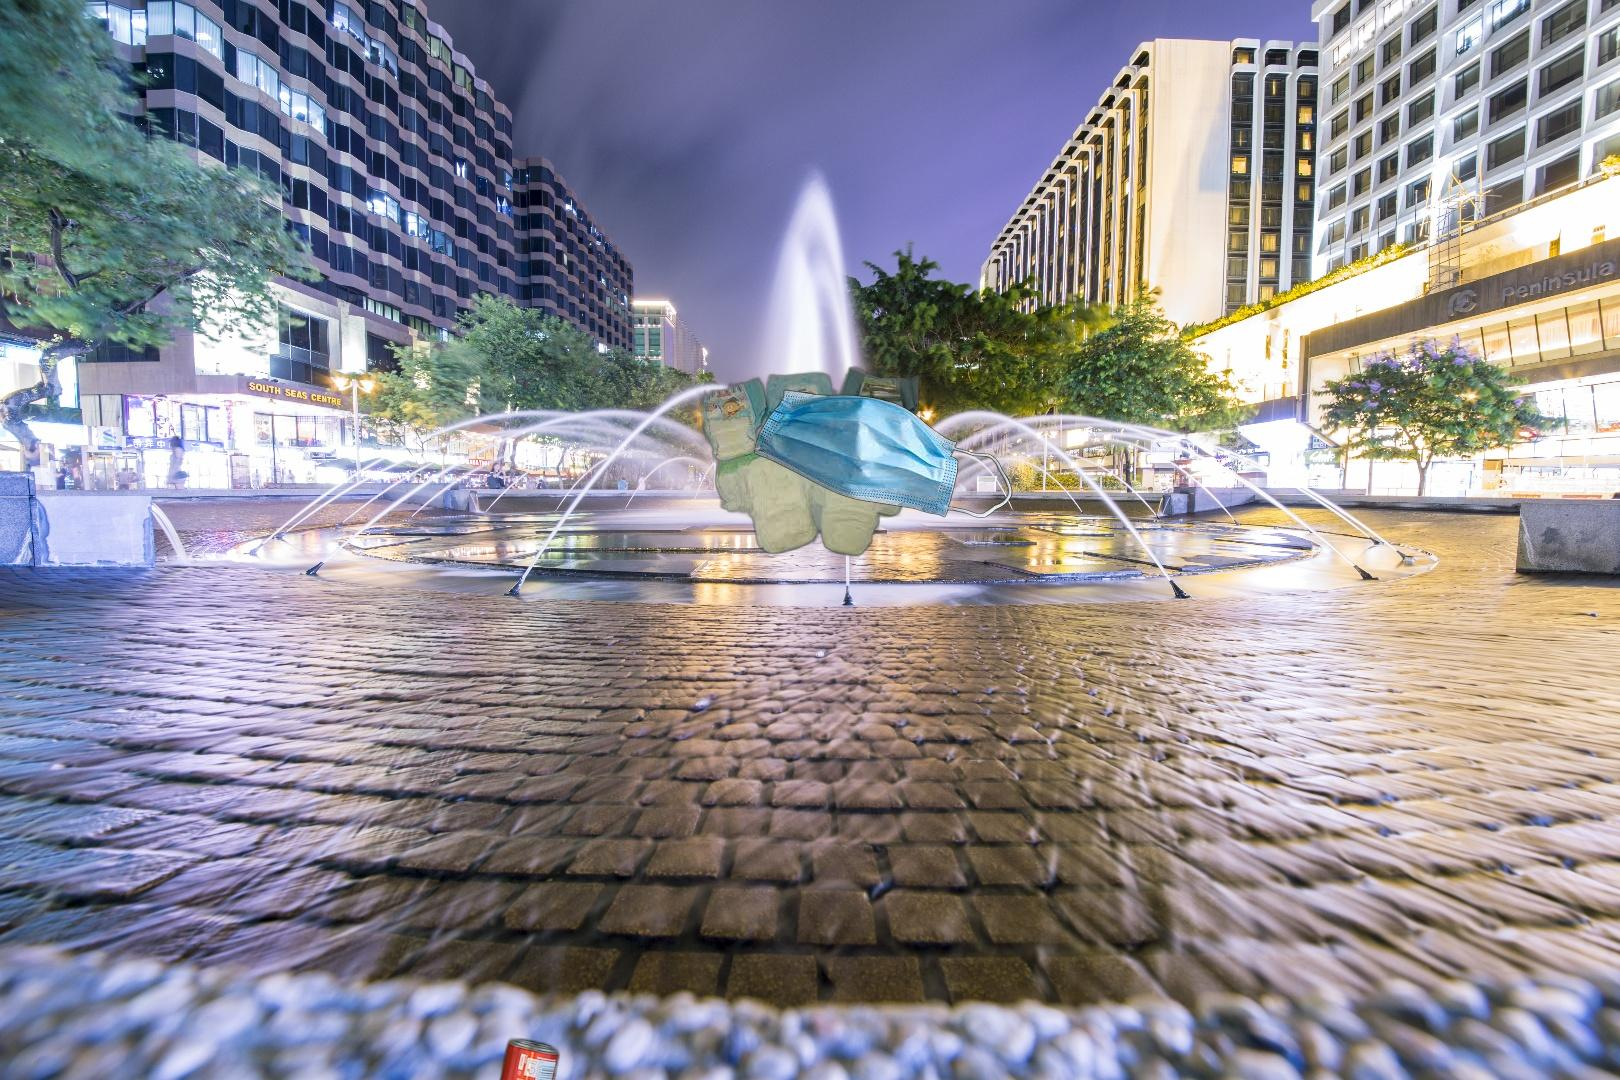metal-cans: (479, 1032, 563, 1080)
trash: (695, 364, 921, 559), (714, 385, 1014, 521)
